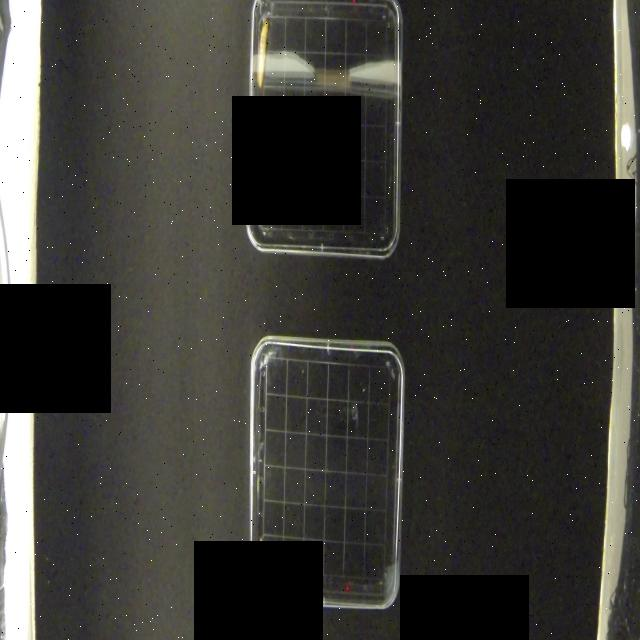larva: (256, 20, 270, 89), (255, 535, 268, 595)
